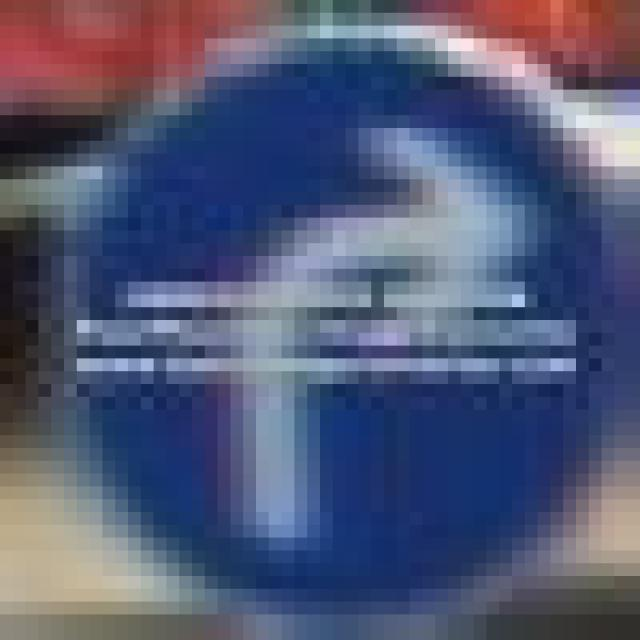railway_crossing: (38, 26, 628, 614)
